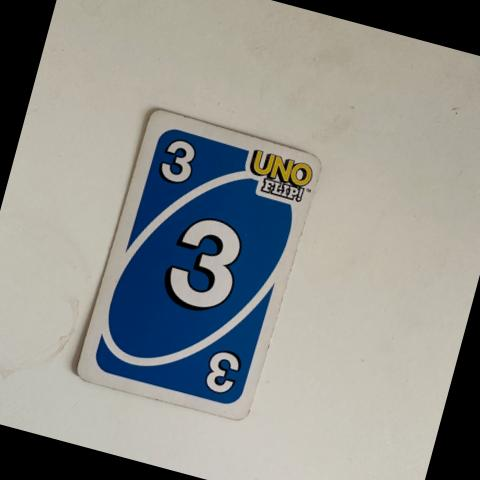3_blue: (161, 218, 245, 308), (157, 138, 197, 186), (203, 353, 242, 395)
